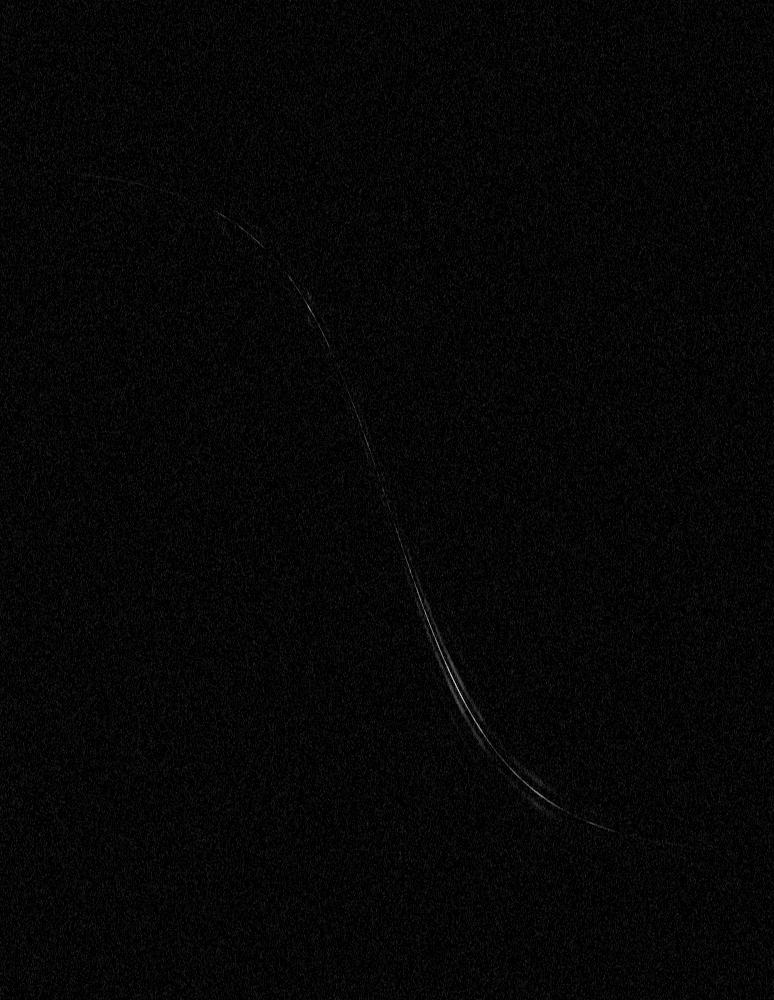signal: (0, 0, 773, 999)
